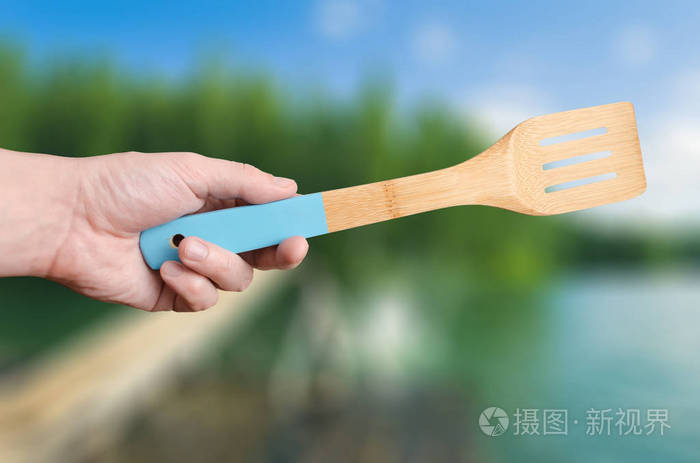no-phone: (9, 118, 574, 315)
